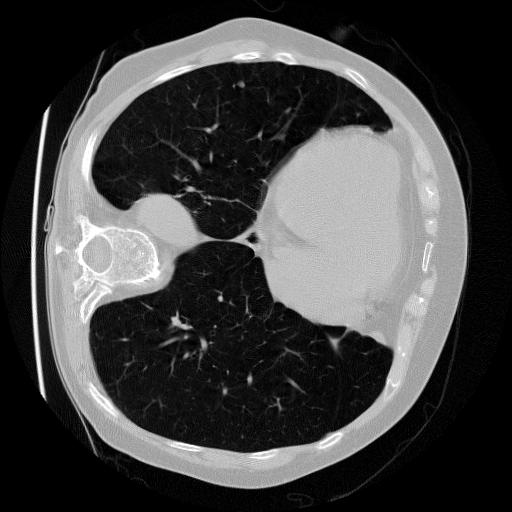nodule: (236, 81, 249, 94)
